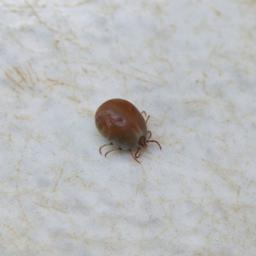Rhipicephalus sanguineus: (94, 97, 162, 165)
